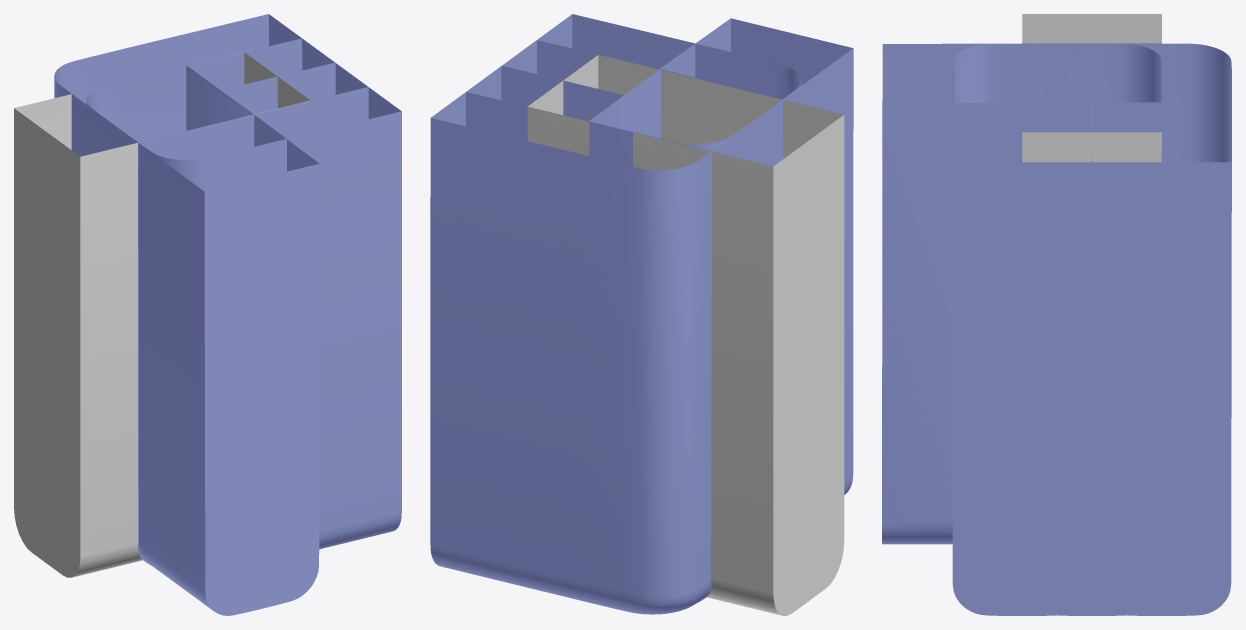
File: WallAndDoor.fbx
The picture shows the model from 3 angles, left to right: view 1: azimuth 30°, elevation 25°; view 2: azimuth 150°, elevation 25°; view 3: azimuth 270°, elevation 25°; orthographic projection. The views are drawn at different scales.
Parts seen in each view (by area): view 1: corner_3, Door_1x1, corner_3.002, corner_5, Corner_1, Wall; view 2: corner_3.002, Door_1x1, corner_3, Corner_1, Wall; view 3: corner_3, corner_3.002, Door_1x1, corner_4, corner_5.
Part boxes in pixels (box(x1,y1,x2,y2)): corner_3: box(87, 38, 368, 615); Door_1x1: box(14, 52, 310, 577); corner_3.002: box(54, 14, 401, 549); corner_5: box(139, 66, 254, 160); Corner_1: box(86, 66, 251, 564); Wall: box(71, 66, 252, 561); corner_3.002: box(430, 14, 801, 614); Door_1x1: box(527, 54, 844, 615); corner_3: box(466, 18, 853, 494); Corner_1: box(589, 69, 733, 166); Wall: box(589, 69, 782, 603); corner_3: box(882, 43, 1161, 615); corner_3.002: box(952, 43, 1231, 615); Door_1x1: box(1022, 14, 1161, 162); corner_4: box(1022, 43, 1161, 132); corner_5: box(1021, 103, 1127, 161).
Bounding box in the file's own units: 2.5 × 3.58 × 2.5.
